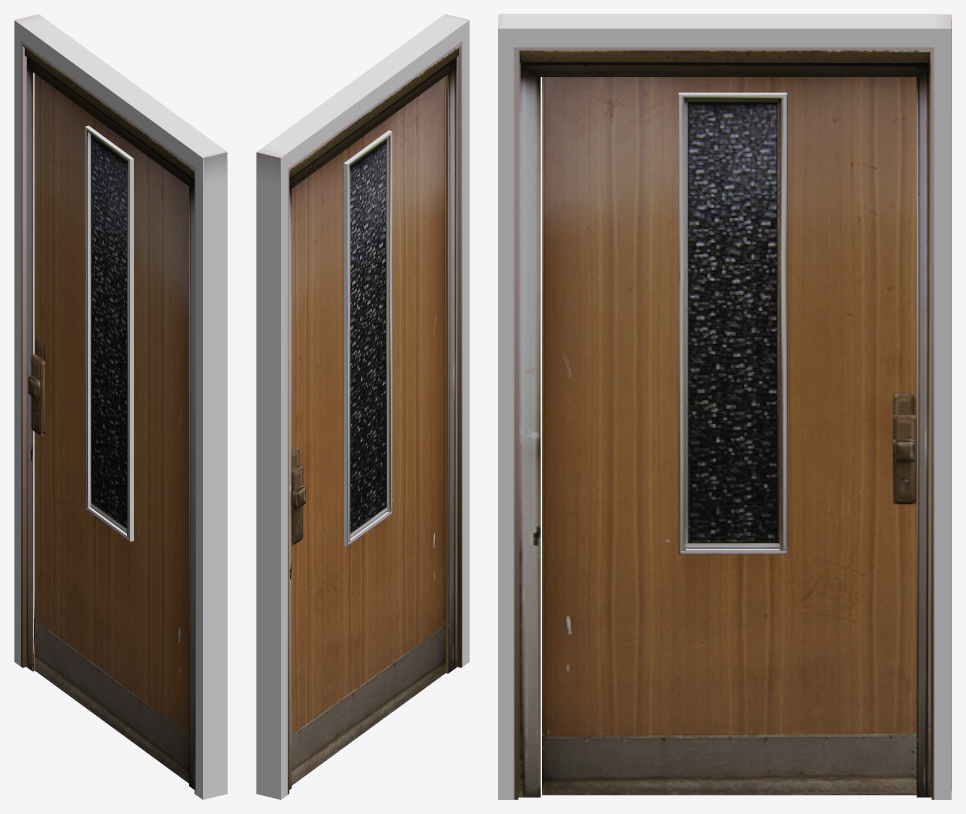
File: WoodDoor01.FBX
The picture shows the model from 3 angles, left to right: view 1: azimuth 30°, elevation 25°; view 2: azimuth 150°, elevation 25°; view 3: azimuth 270°, elevation 25°; orthographic projection. The views are drawn at different scales.
Parts seen in each view (by area): view 1: DoorWood001, DoorWoodFrame001; view 2: DoorWood001, DoorWoodFrame001; view 3: DoorWood001, DoorWoodFrame001.
Part boxes in pixels (box(x1,y1,x2,y2)): DoorWood001: box(28, 74, 188, 783); DoorWoodFrame001: box(14, 14, 227, 799); DoorWood001: box(291, 76, 445, 785); DoorWoodFrame001: box(256, 14, 469, 799); DoorWood001: box(542, 77, 916, 795); DoorWoodFrame001: box(498, 14, 951, 799).
Size of the model in its own units: 20.94 by 496 by 264.
